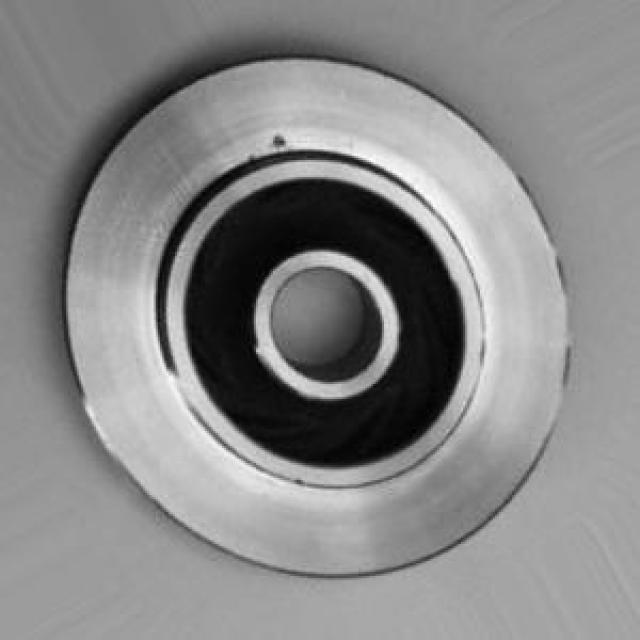Defect: (267, 129, 296, 157)
